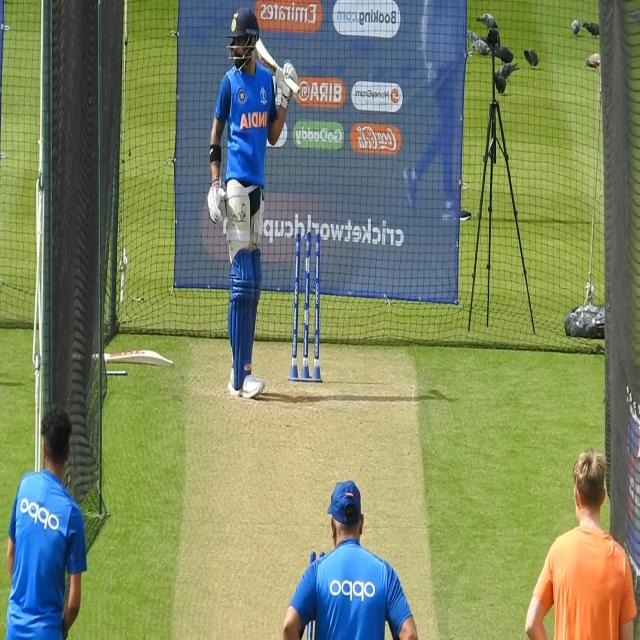stump: (287, 229, 322, 384)
